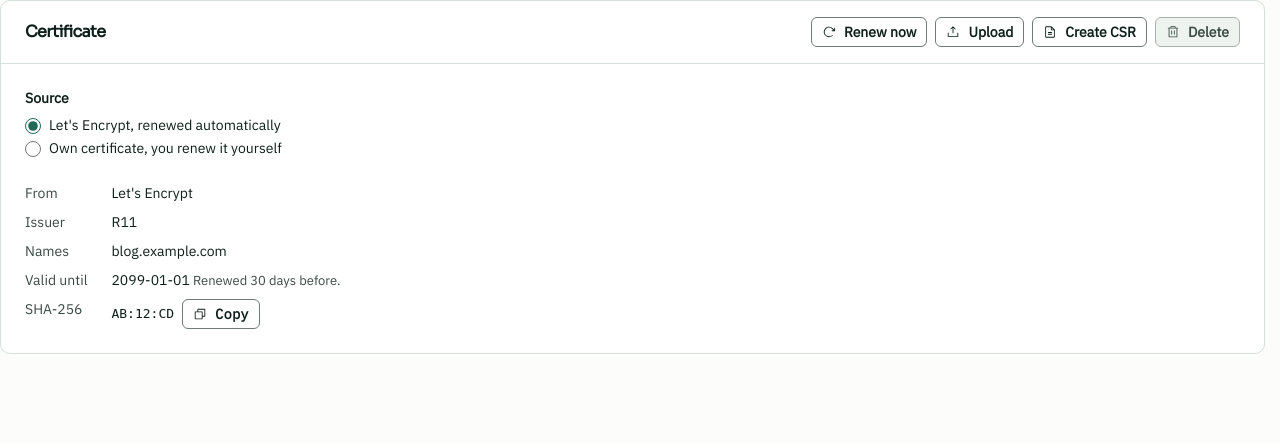
Test: CertificateCard › explains a renewal too soon
Click the button "Renew now" at (869, 32), box [811,17,927,47]
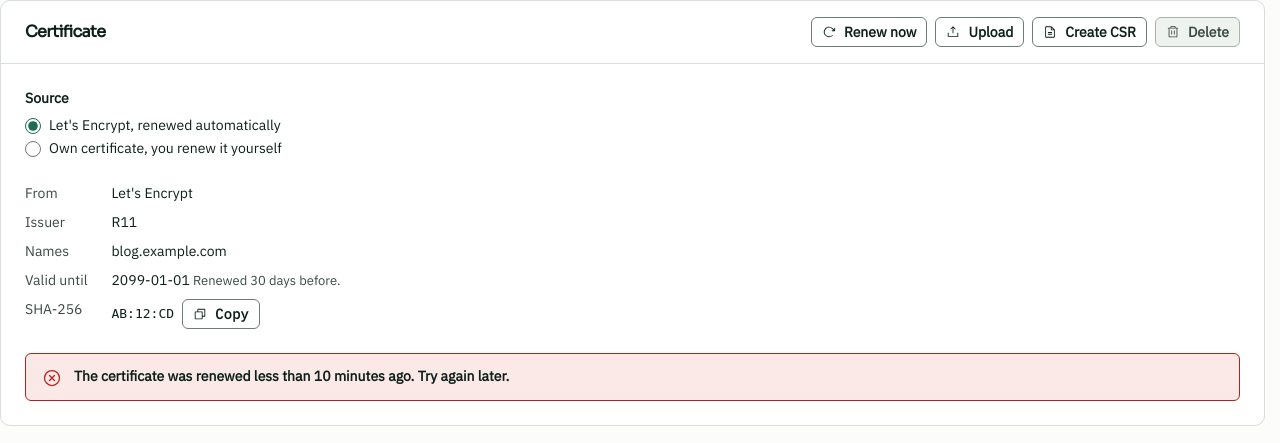
Now the text "less than 10 minutes ago" is shown, box [74,367,509,385]
